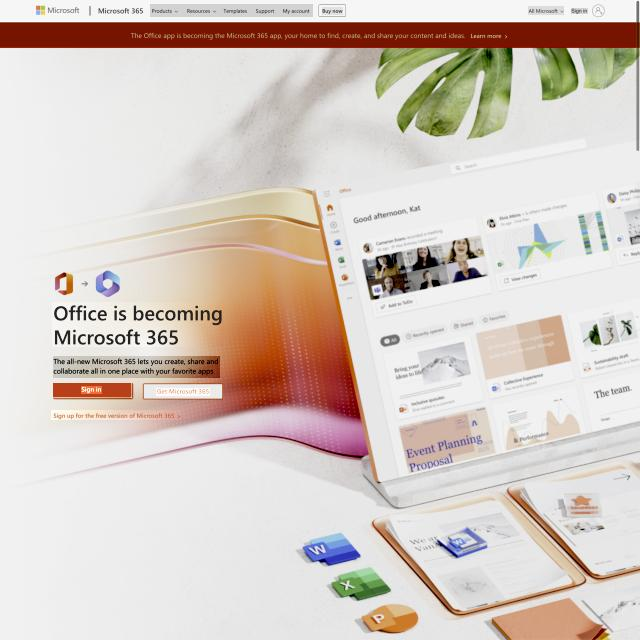CheckBox: (142, 383, 223, 400), (51, 410, 181, 420), (54, 384, 134, 399), (318, 4, 347, 18), (571, 8, 588, 14)
Input field: (53, 356, 220, 378)
ProgressBar: (0, 22, 636, 48)
alert: (528, 6, 564, 15)
bag: (0, 0, 635, 21)
card: (0, 47, 640, 640)
carousel: (591, 4, 606, 18)
data feed: (156, 388, 210, 396), (322, 7, 343, 15), (83, 388, 104, 396)
date picker: (33, 4, 82, 18)
decoration: (150, 4, 313, 17)
image: (52, 302, 224, 347)
